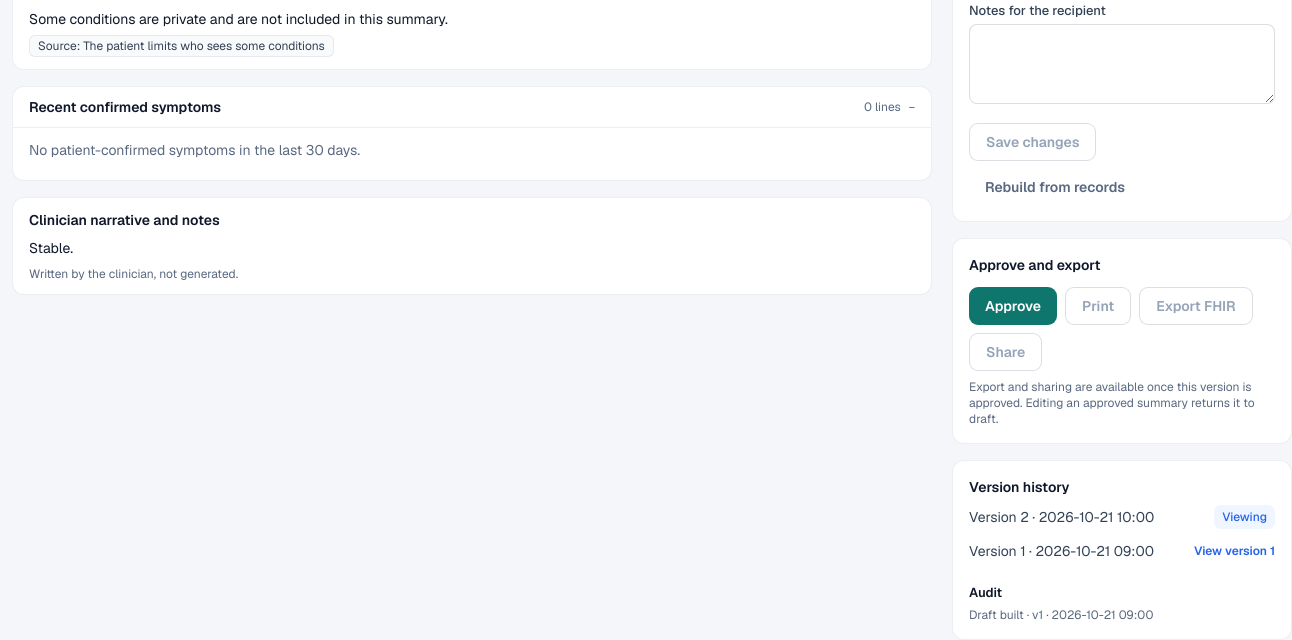
Test: HandoffSummaryReview › shows an older version read-only
This screenshot has width=1292, height=640.
(page scrolled)
Click the button "View version 1": [1234, 551] box [1194,535,1275,567]
(page scrolled)
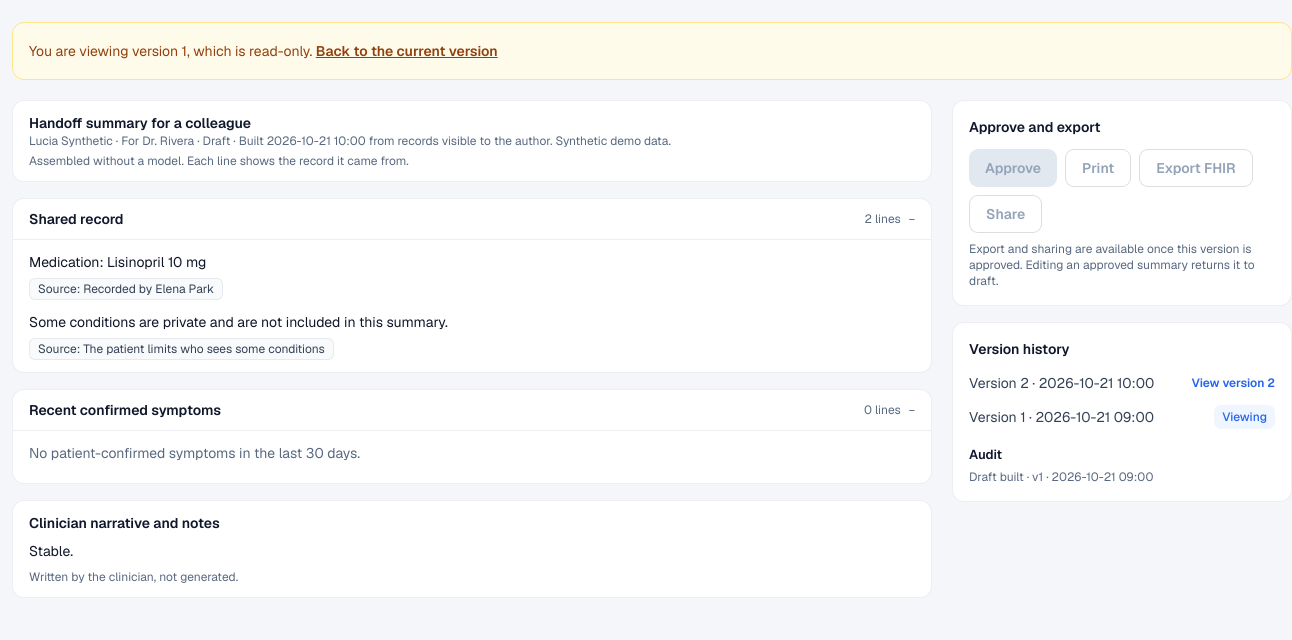
Expected: the text "You are viewing version 1, which is read-only. Back to the current version" is shown, [12,22,1291,80]
Expected: the button "Approve" is disabled, [969,149,1057,187]
